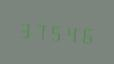five: (48, 19, 62, 44)
four: (63, 20, 77, 45)
seven: (33, 17, 47, 43)
six: (78, 21, 92, 47)
three: (18, 16, 32, 41)
